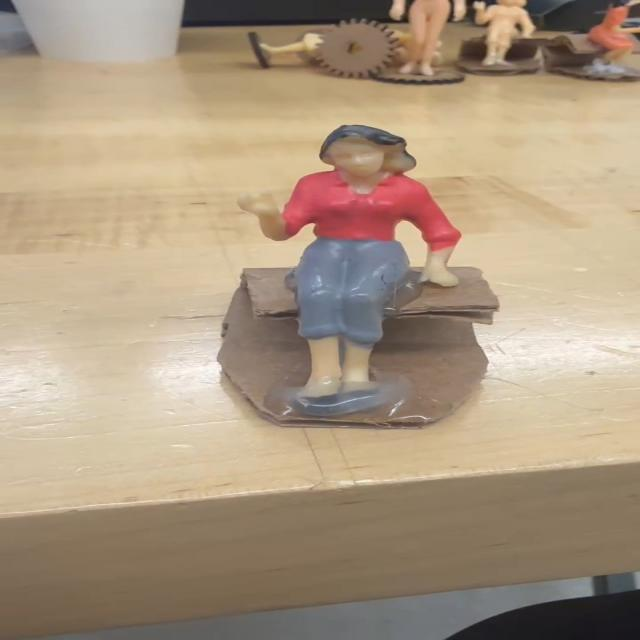Authorized: (192, 112, 518, 417)
